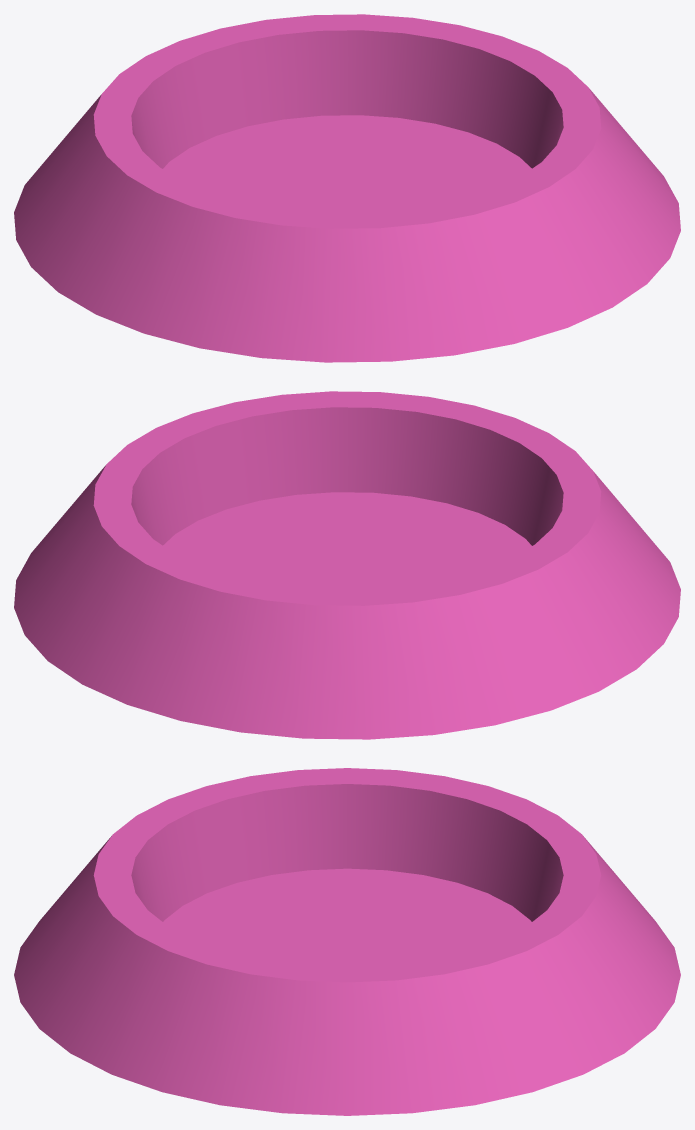
The model's file is petBowl.fbx.
3 renders of one model, top to bottom at view 1: azimuth 30°, elevation 25°; view 2: azimuth 150°, elevation 25°; view 3: azimuth 270°, elevation 25°, orthographic.
Visible parts, largest first — view 1: Pet Bowl; view 2: Pet Bowl; view 3: Pet Bowl.
Boxes of the visible parts, x1,y1,x2,y2 form: Pet Bowl: (14,14,680,362); Pet Bowl: (14,391,680,739); Pet Bowl: (14,768,680,1115).
Bounding box in the file's own units: 228 × 228 × 37.6.
